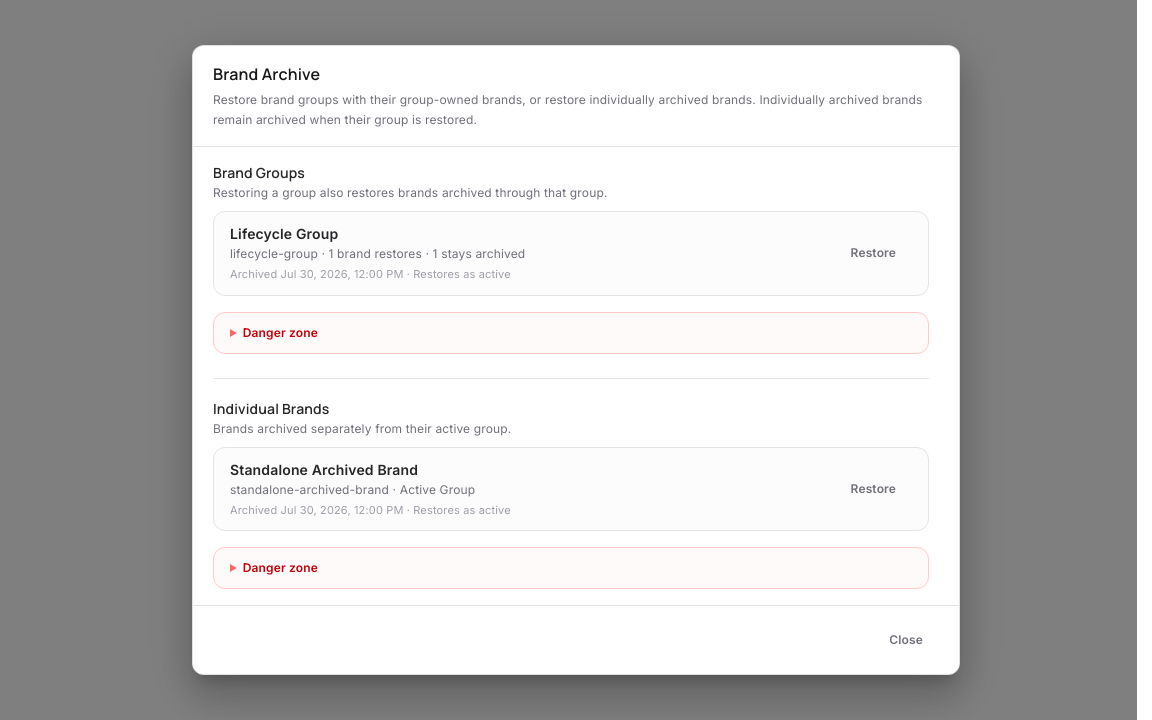
it: ManageArchivedBrandsDialog › warns an authorized admin about the complete group purge impact
Click the heading "Danger zone" below "lifecycle-group": coordinates (280, 332) [243,324,318,340]
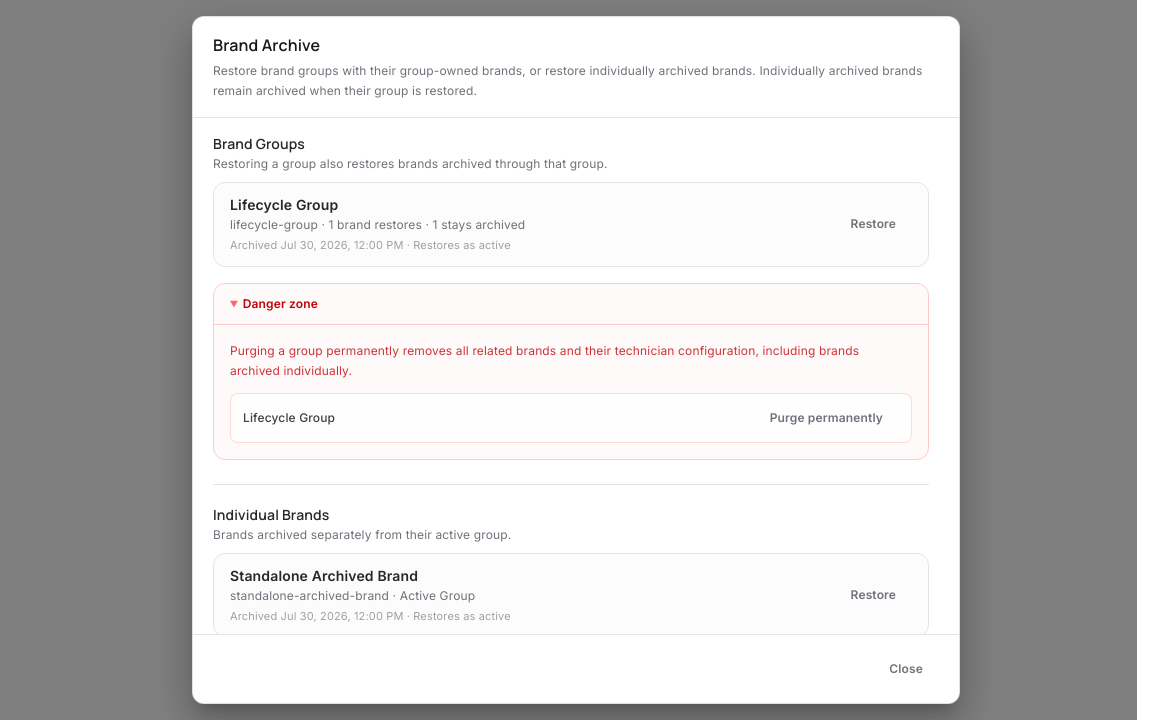
Click the button with aria-label "Purge Lifecycle Group permanently": coordinates (826, 418) [754,402,899,434]
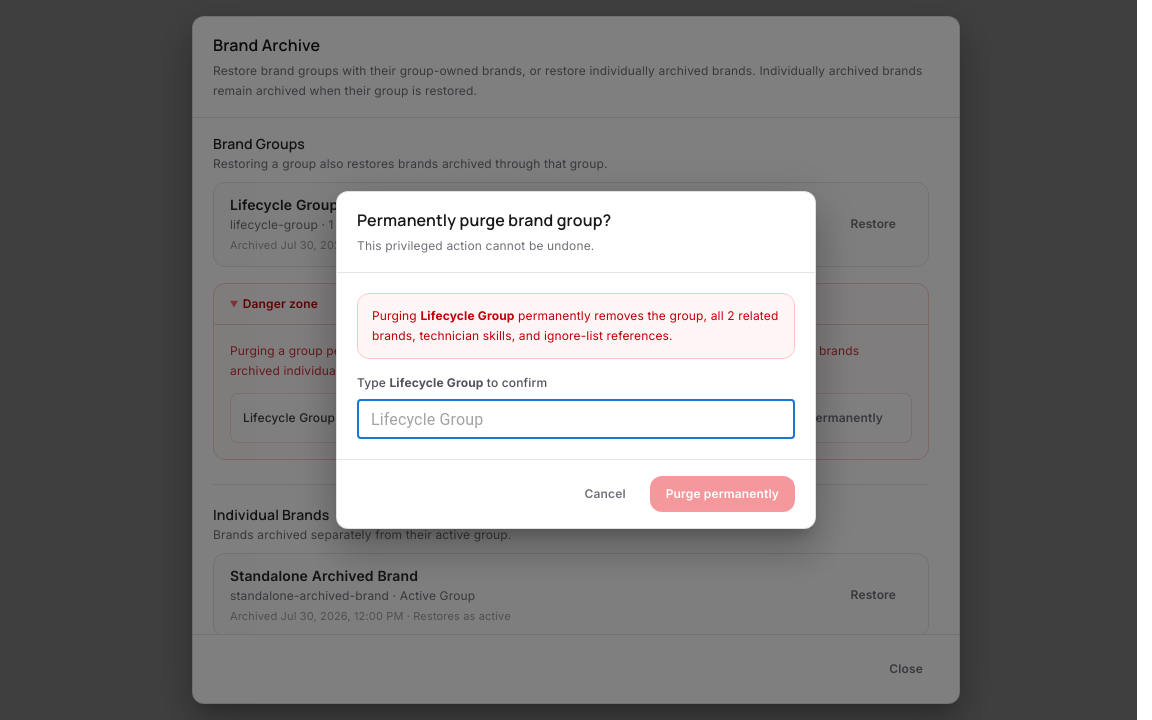
Result: the field named "Brand group name confirmation" is shown at [357,399,795,439]
Result: the text "all 2 related brands" is shown at [357,293,795,359]
